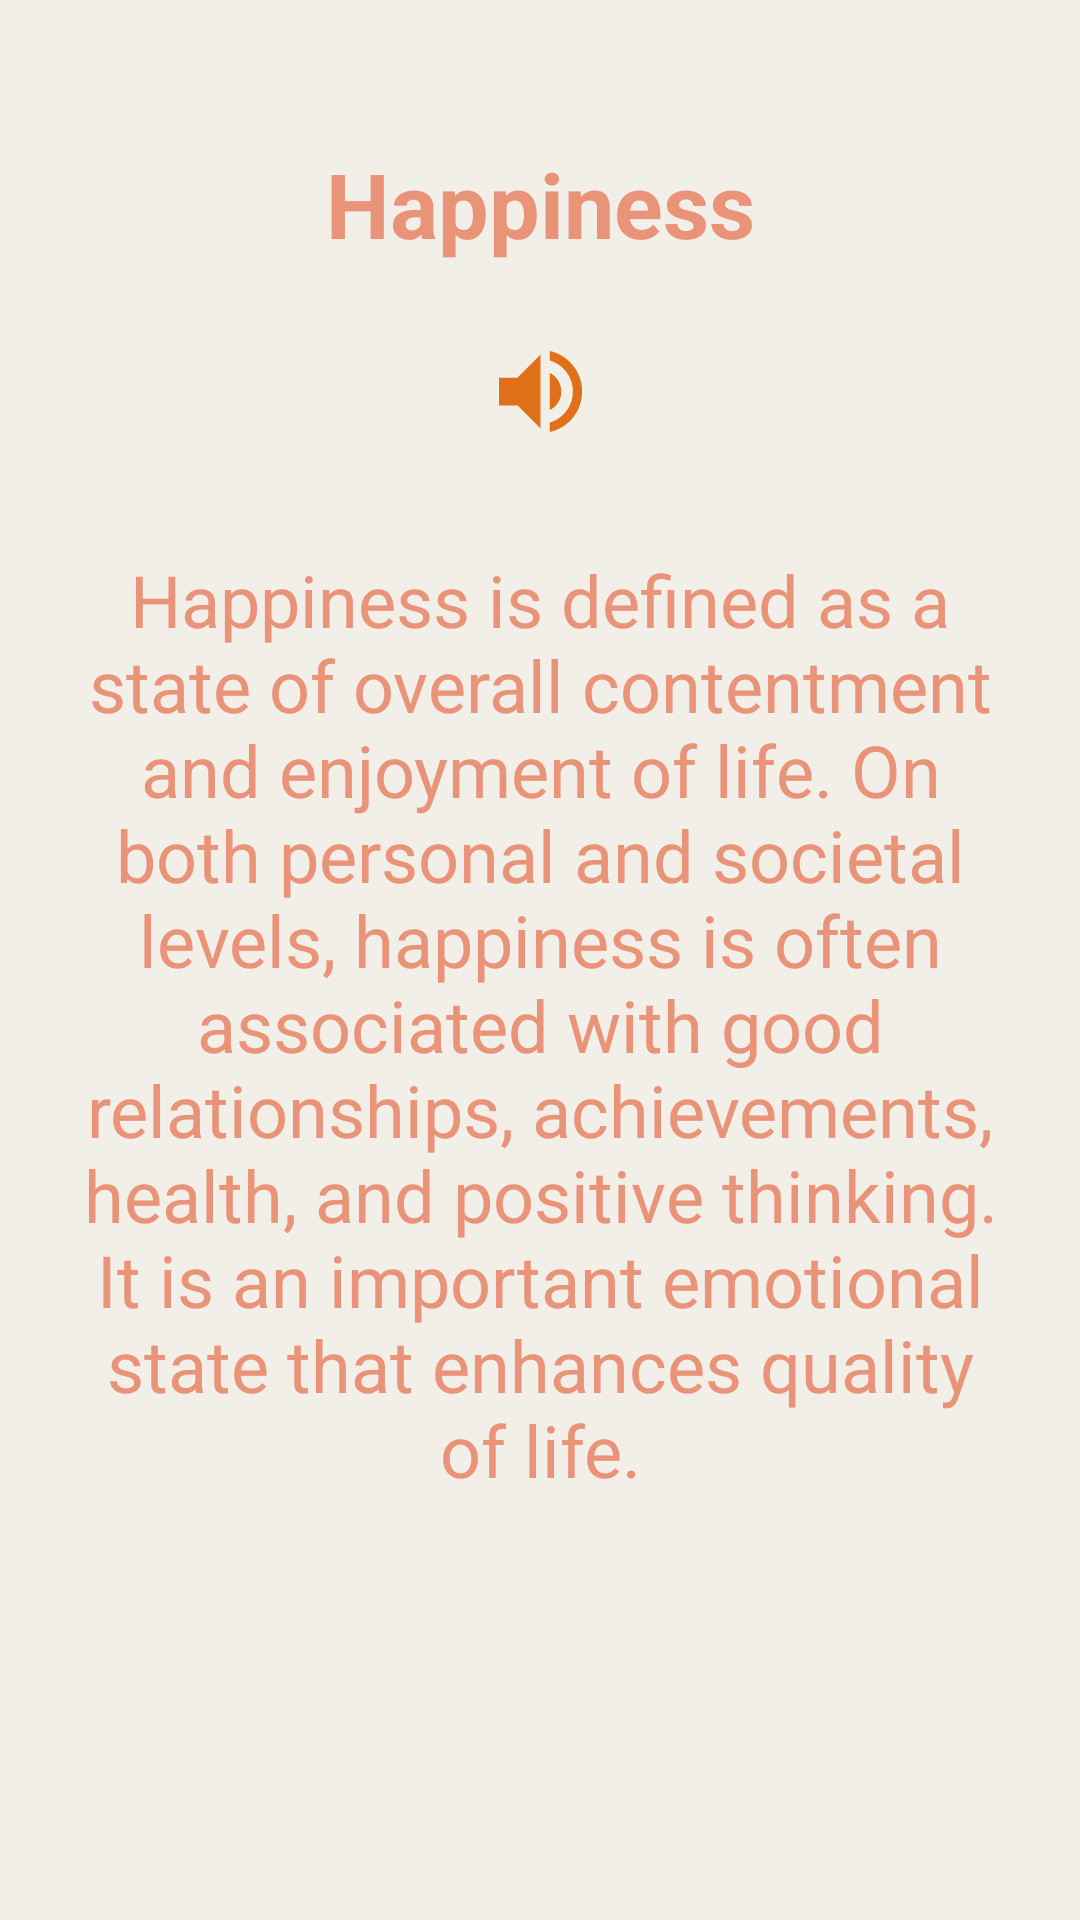

Named icons in this screenshot (1080px×1920px) and their centers, point (x, y):
volume up: point (540, 391)
